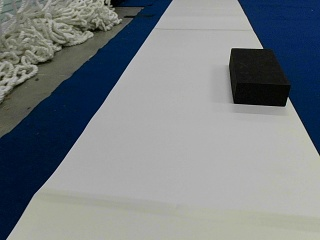block: (229, 47, 289, 106)
